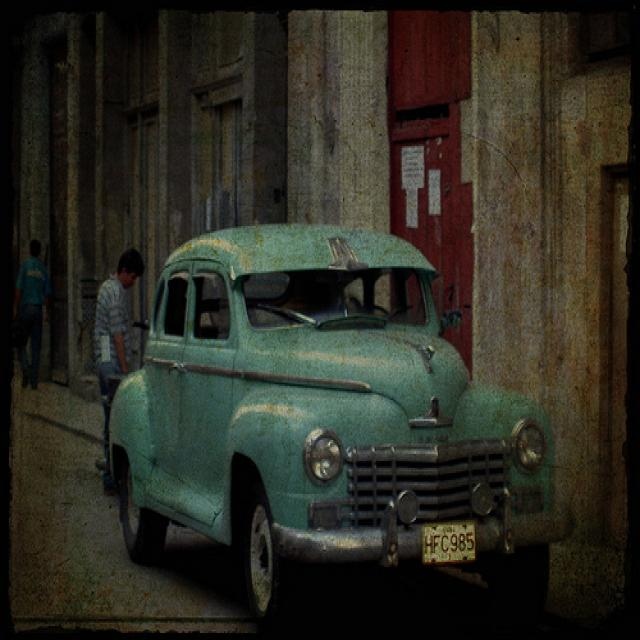Car: (102, 228, 558, 613)
